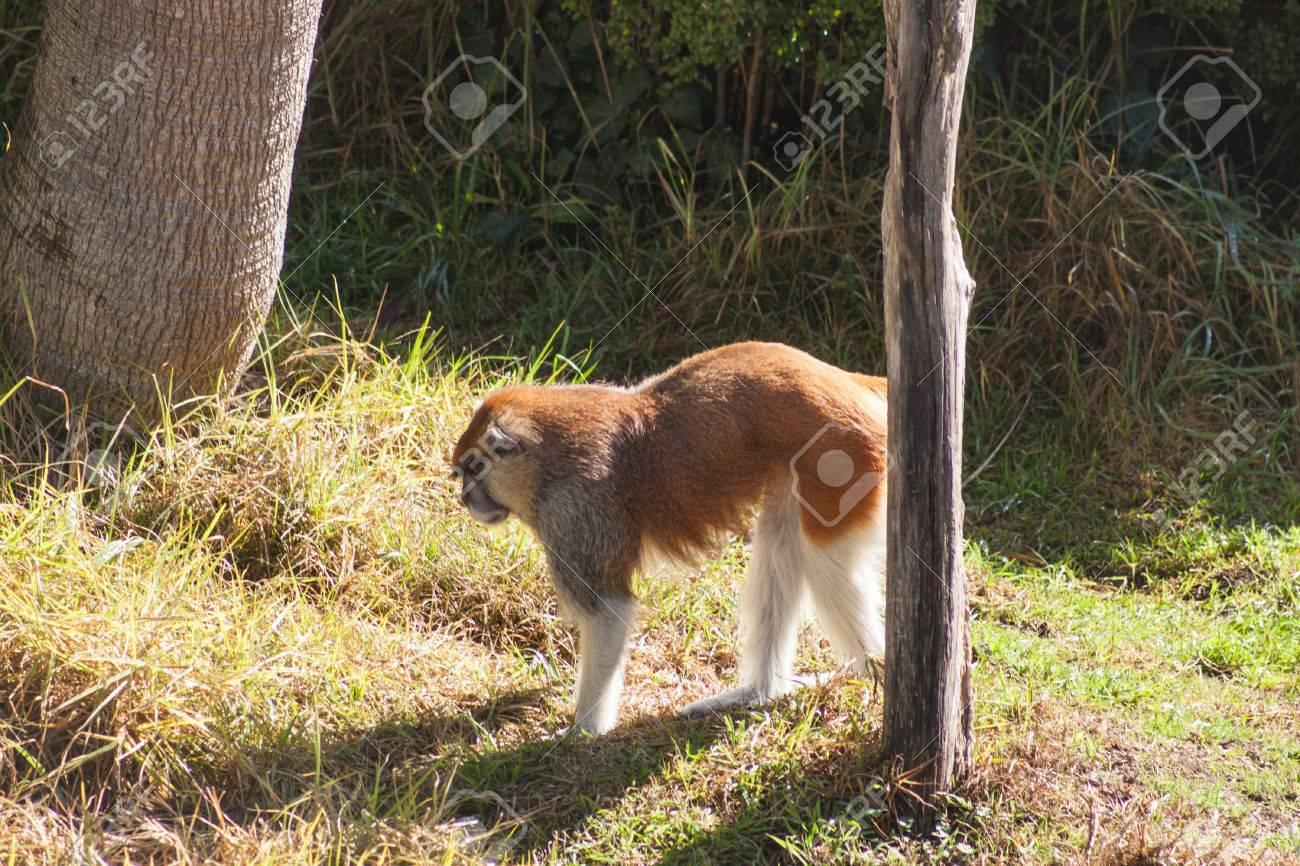monkey: (451, 342, 904, 741)
